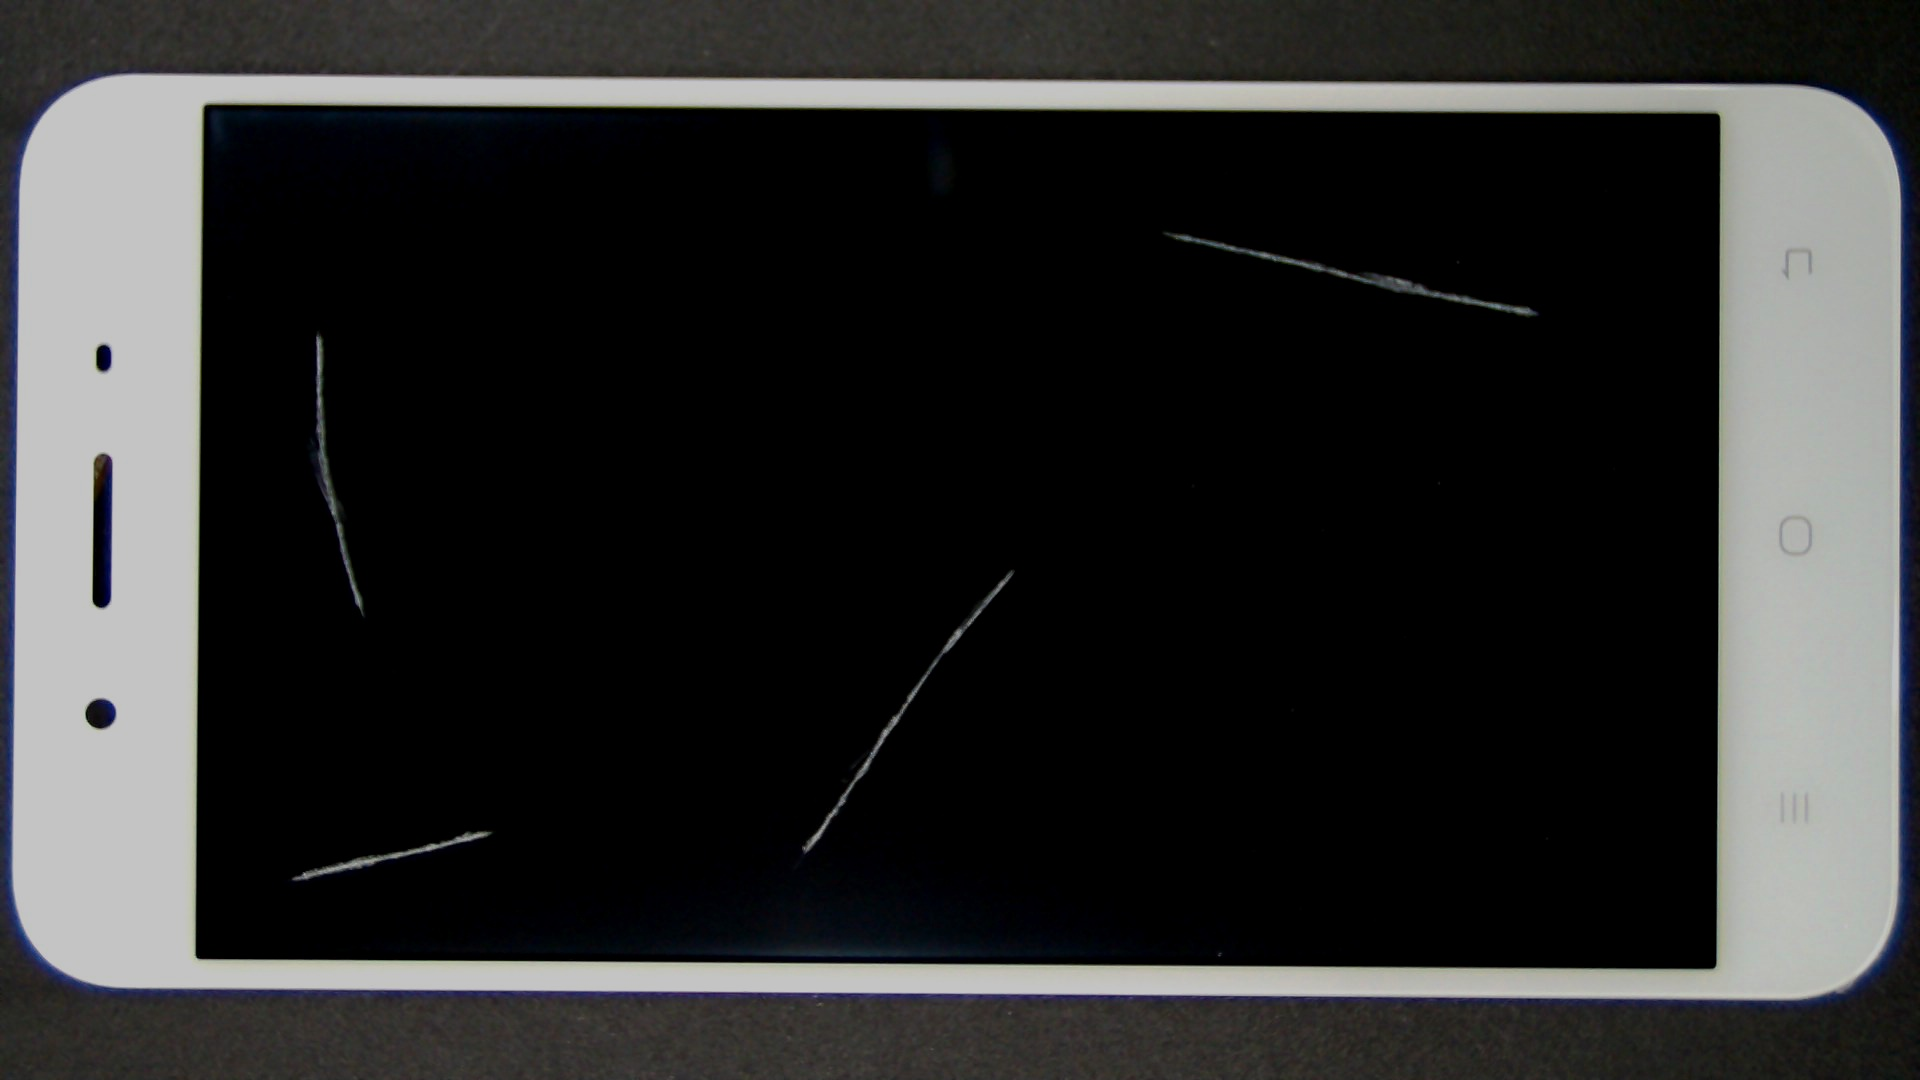oil: (506, 284, 1519, 852), (244, 414, 728, 1080), (583, 113, 1747, 344), (158, 164, 473, 496)
